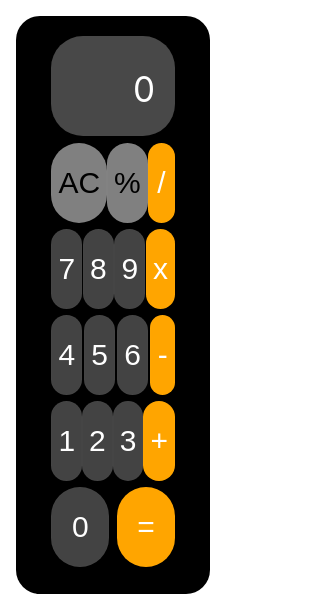
Test case: Calculator › Multiplies numbers correctly together
Click the button with id "nine" at [130, 269], box [114,229,145,309]
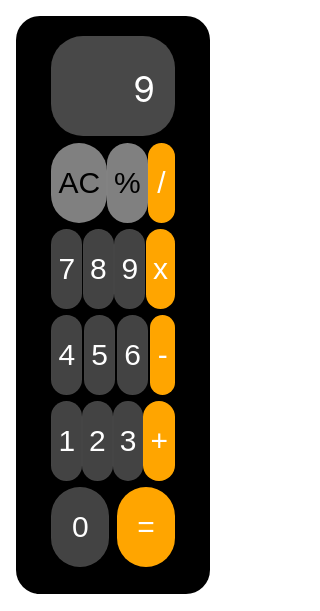
Click the button with id "multiply" at [160, 269], box [146,229,175,309]
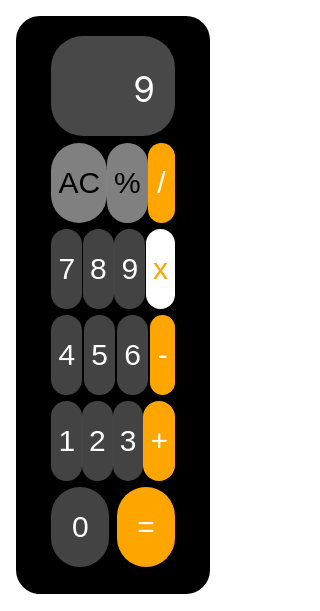
Click the button with id "three" at [128, 441], box [113,401,144,481]
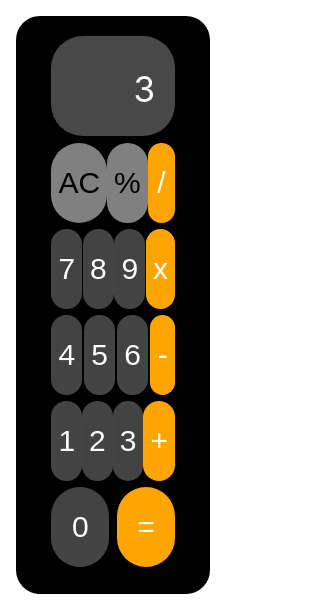
Click the button with id "equals" at [146, 527], box [117,487,175,567]
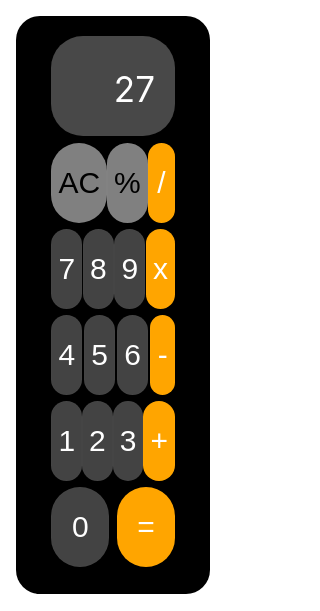
Expected: the element with class "display" reads "27", [114,68,155,110]
